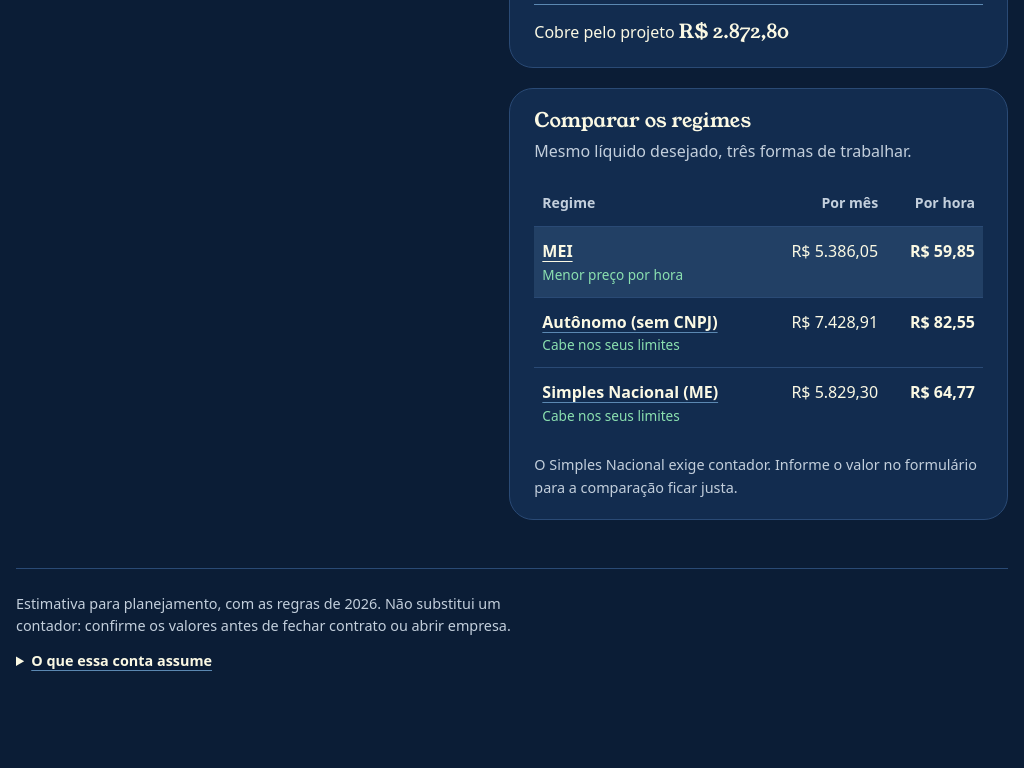
Test: App com a comparação › trocar o regime pela tabela atualiza o formulário e o resultado
(page scrolled)
Click the button "Simples Nacional (ME)". click: {"x": 630, "y": 393}
box: [542, 380, 718, 405]
(page scrolled)
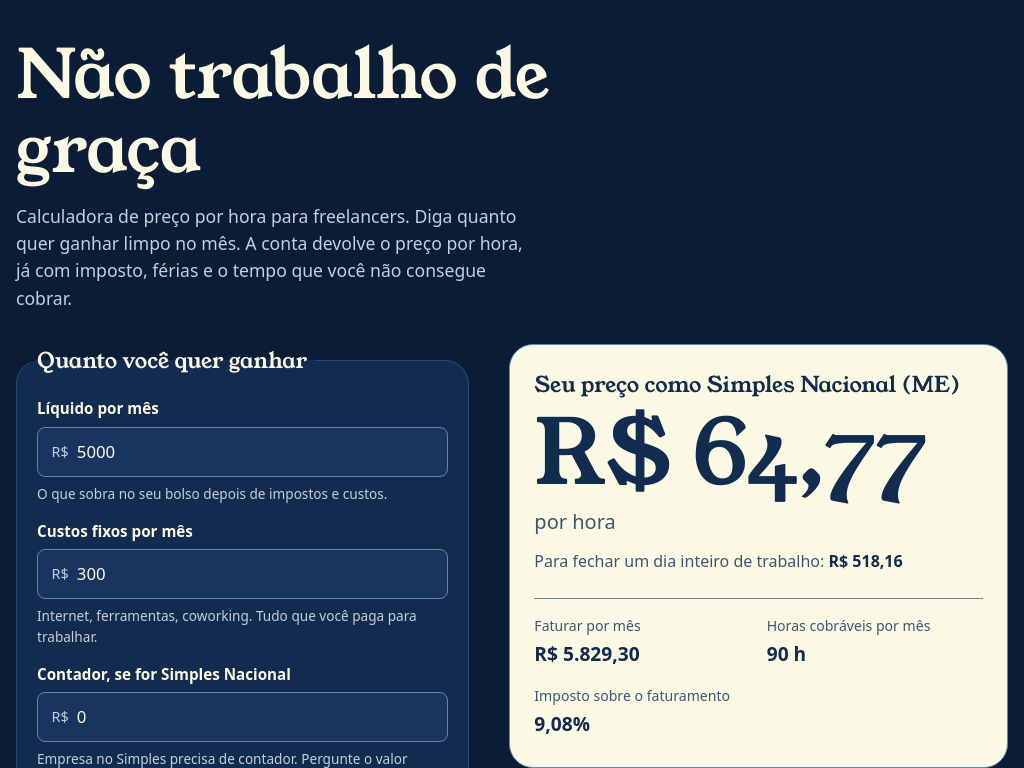
Expected: the heading "Seu preço como Simples Nacional (ME)" is shown, [534, 373, 983, 397]
